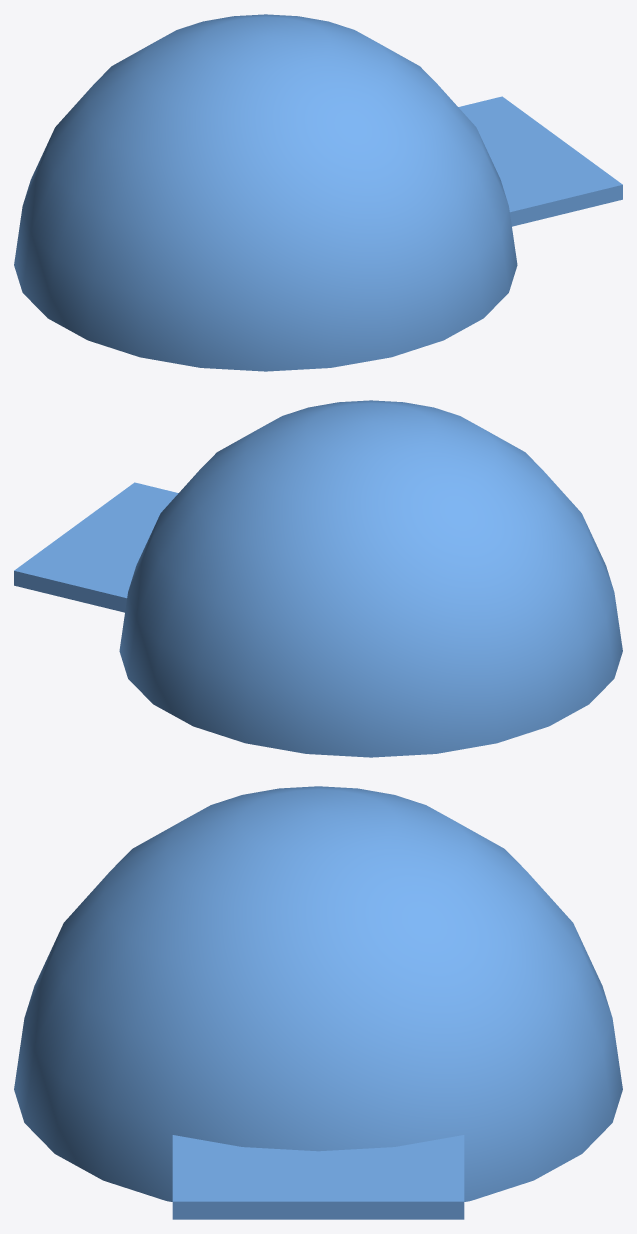
The model's file is hat_cap.glb.
The picture shows the model from 3 angles, top to bottom: view 1: azimuth 30°, elevation 25°; view 2: azimuth 150°, elevation 25°; view 3: azimuth 270°, elevation 25°; orthographic projection. The views are drawn at different scales.
Parts seen in each view (by area): view 1: hat_cap; view 2: hat_cap; view 3: hat_cap.
Boxes of the visible parts, x1,y1,x2,y2 form: hat_cap: (14, 14, 622, 371); hat_cap: (14, 400, 622, 757); hat_cap: (14, 786, 622, 1219).
Size of the model in its own units: 0.542 by 0.2295 by 0.459.
